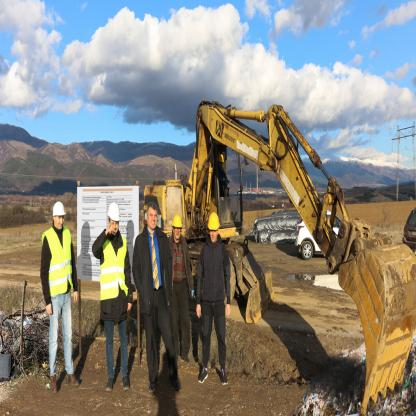person: (132, 197, 181, 395), (190, 197, 237, 402), (36, 196, 80, 390), (92, 190, 131, 390), (169, 212, 190, 358)
